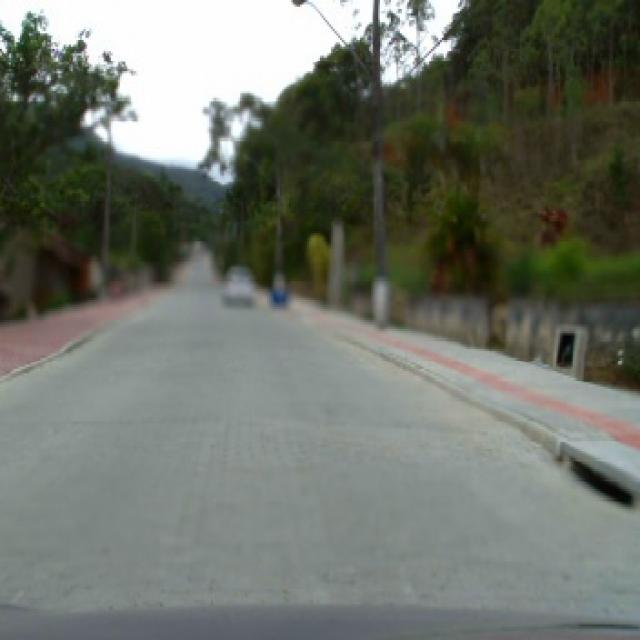Poth-hole: (560, 451, 635, 509)
